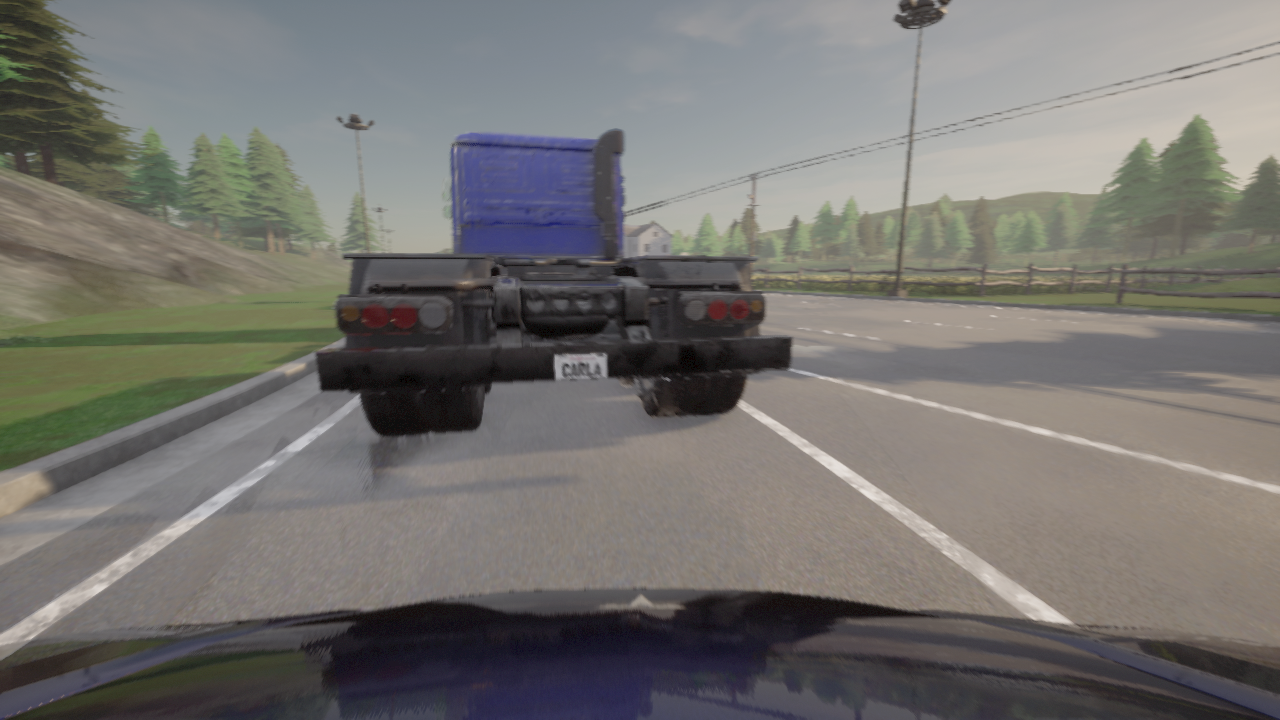cyclist: (0, 588, 1279, 719), (316, 129, 791, 435)
